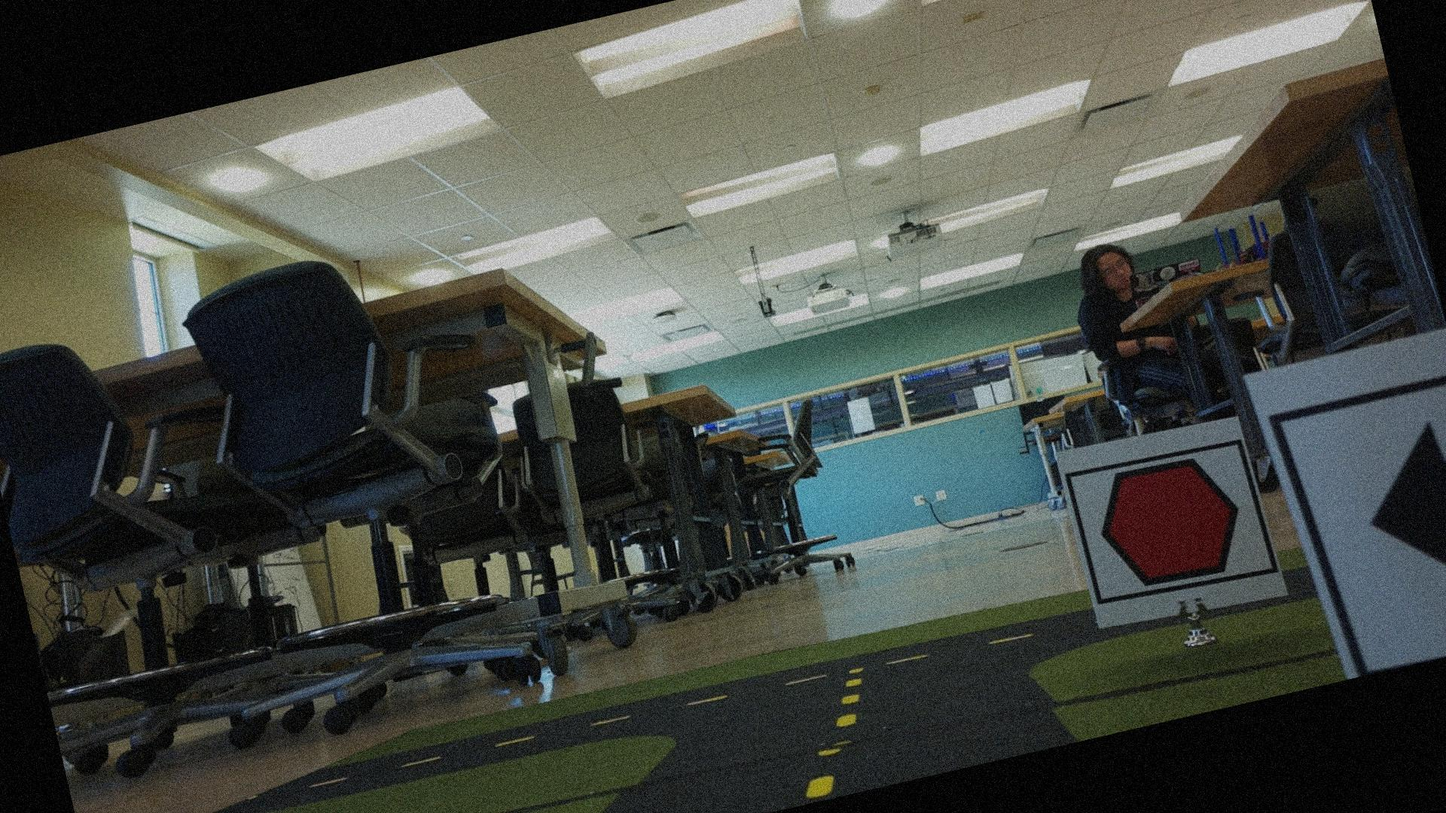stop: (1073, 442, 1266, 605)
yellowline: (828, 674, 869, 730)
